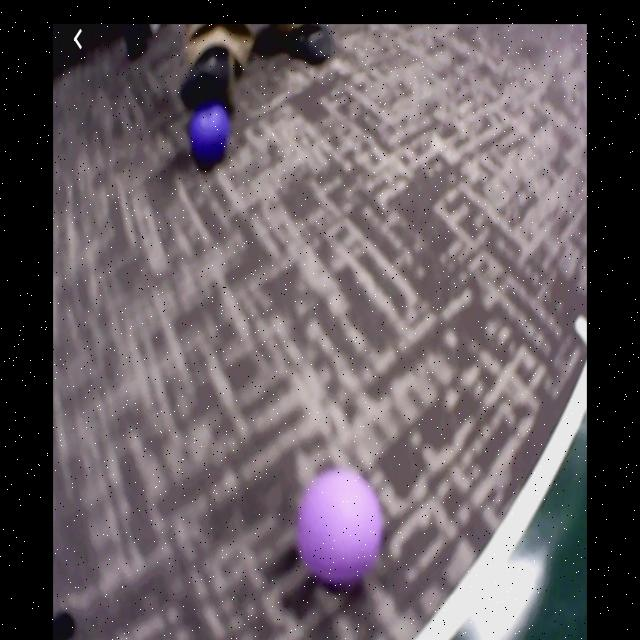ball: (301, 469, 382, 584), (190, 107, 230, 163)
